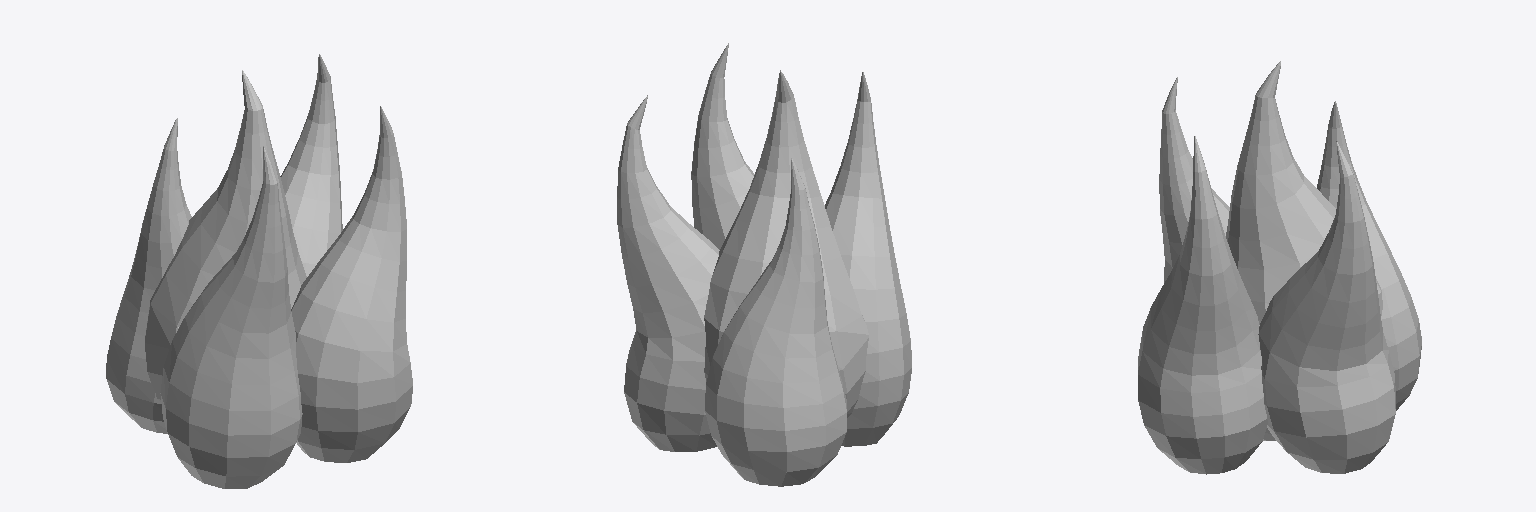
File: fire_000032.obj
The picture shows the model from 3 angles: view 1: azimuth 30°, elevation 25°; view 2: azimuth 150°, elevation 25°; view 3: azimuth 270°, elevation 25°; orthographic projection.
Visible parts, largest first — view 1: flame_NurbsPath.015; view 2: flame_NurbsPath.015; view 3: flame_NurbsPath.015.
Part boxes in pixels (x1,y1,x2,y2): flame_NurbsPath.015: (106, 54, 412, 488); flame_NurbsPath.015: (617, 43, 911, 486); flame_NurbsPath.015: (1138, 61, 1421, 474).
Bounding box in the file's own units: 0.746 × 1.19 × 0.8121.